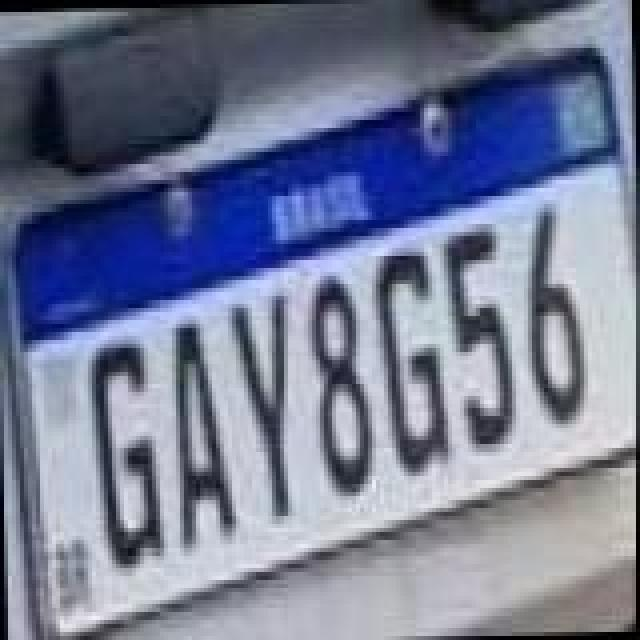5: (440, 222, 516, 454)
6: (522, 200, 594, 424)
8: (304, 272, 376, 504)
A: (166, 314, 238, 558)
G: (372, 248, 452, 480), (88, 332, 164, 576)
Y: (224, 288, 288, 516)
